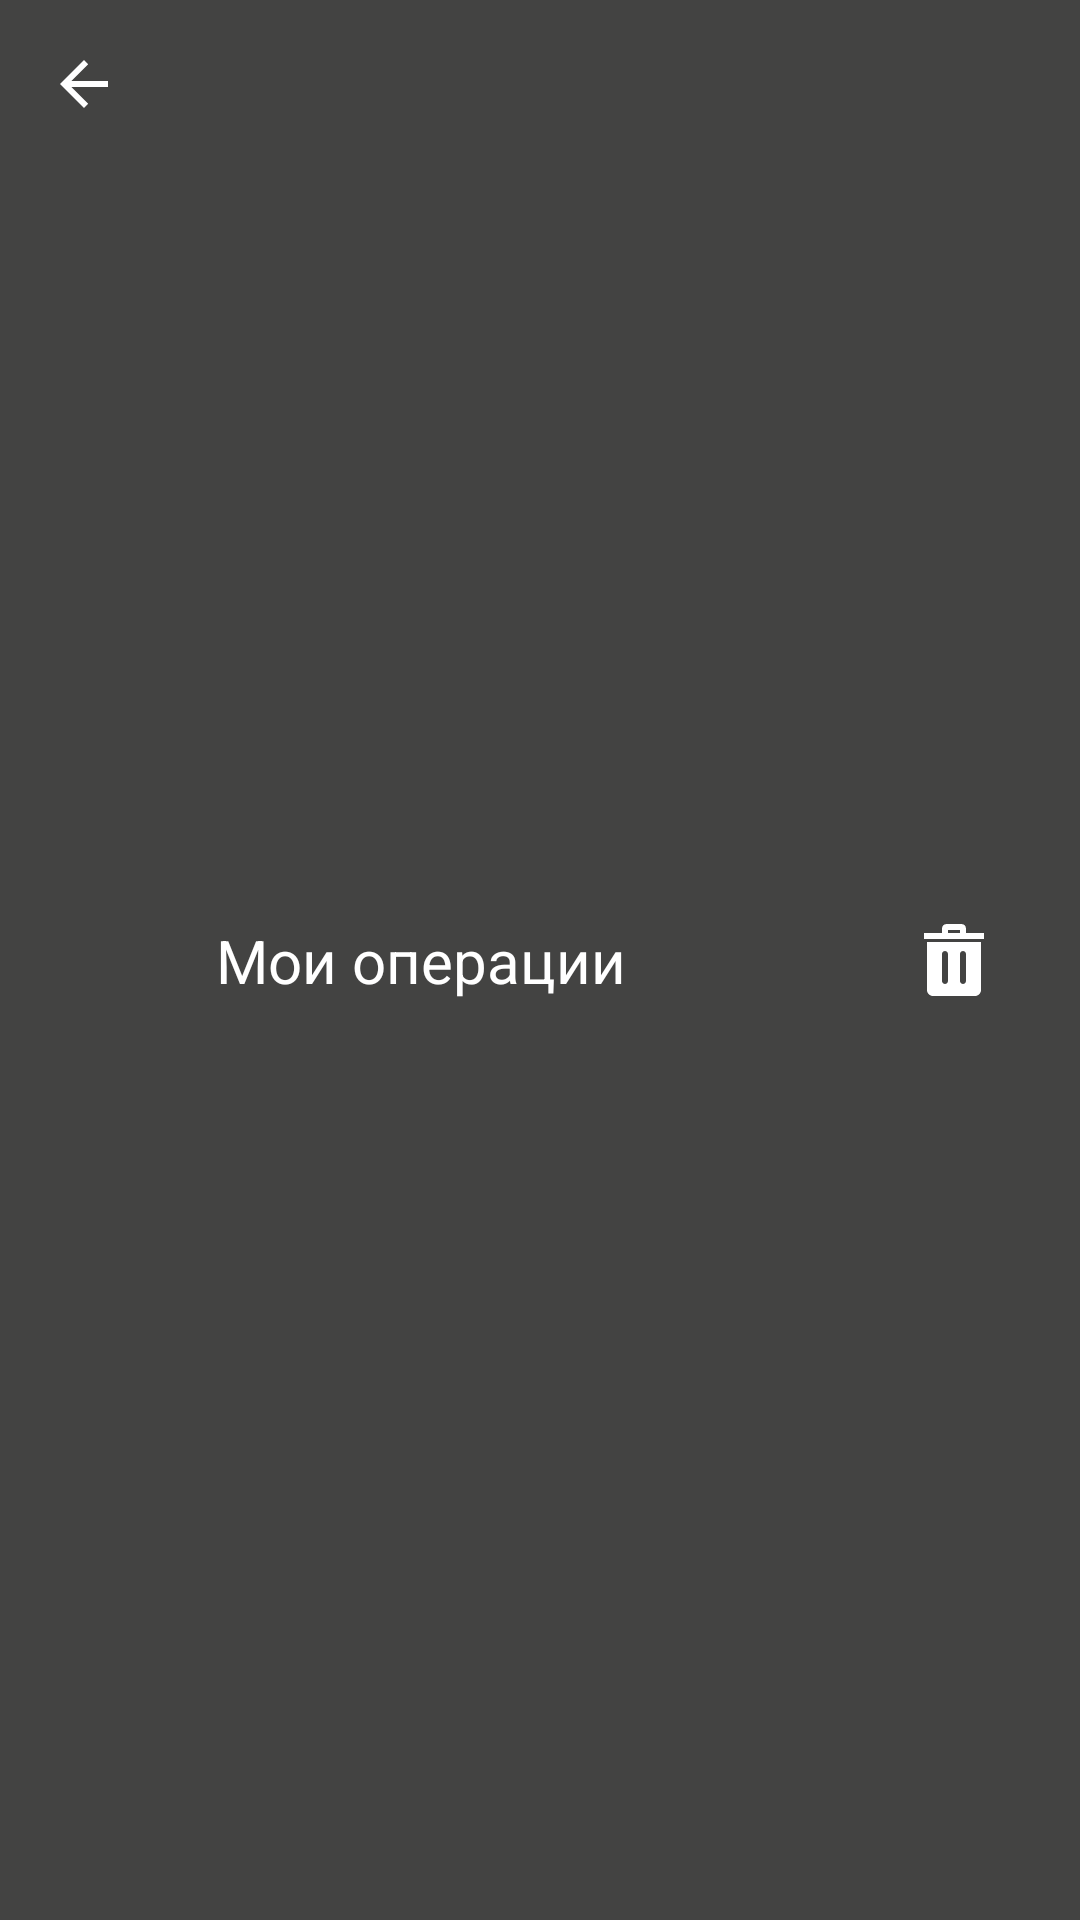

Point at icon controls on the screen. Image size 1080w x 1920h, points as [x,y].
trash: [954,960]
